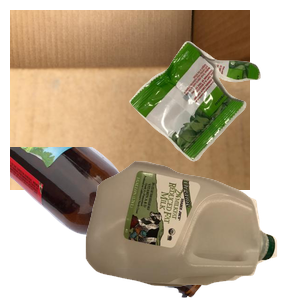cardboard: (10, 10, 250, 190)
glass: (10, 147, 207, 300)
plastic: (83, 159, 300, 300)
trash: (127, 39, 300, 193)
